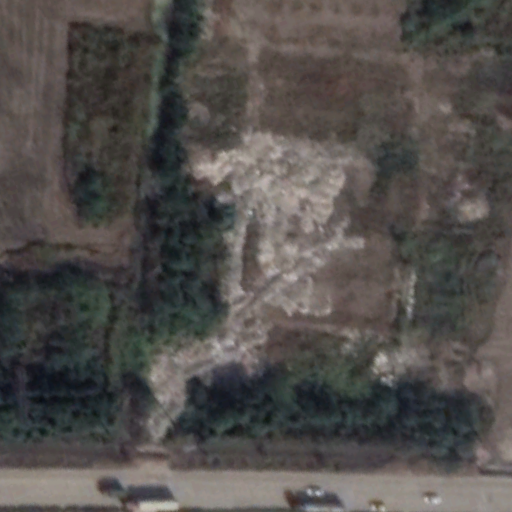msw: (146, 130, 362, 440)
